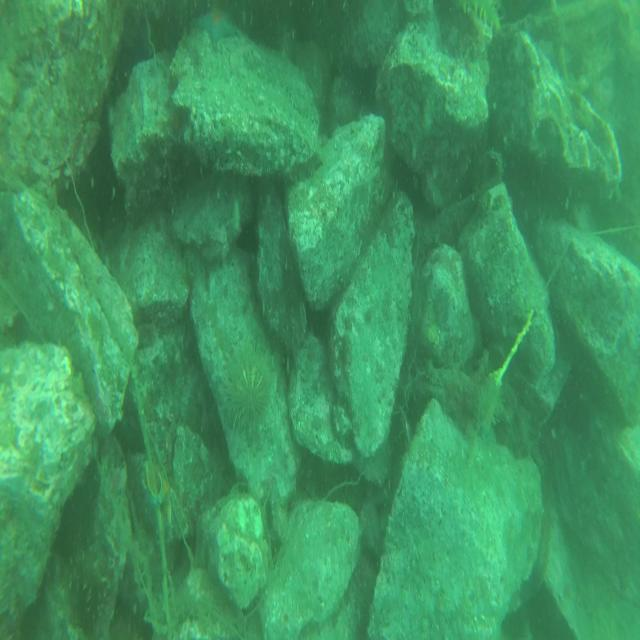echinus: (227, 363, 274, 444)
holothurian: (68, 539, 113, 634), (454, 1, 494, 42)
